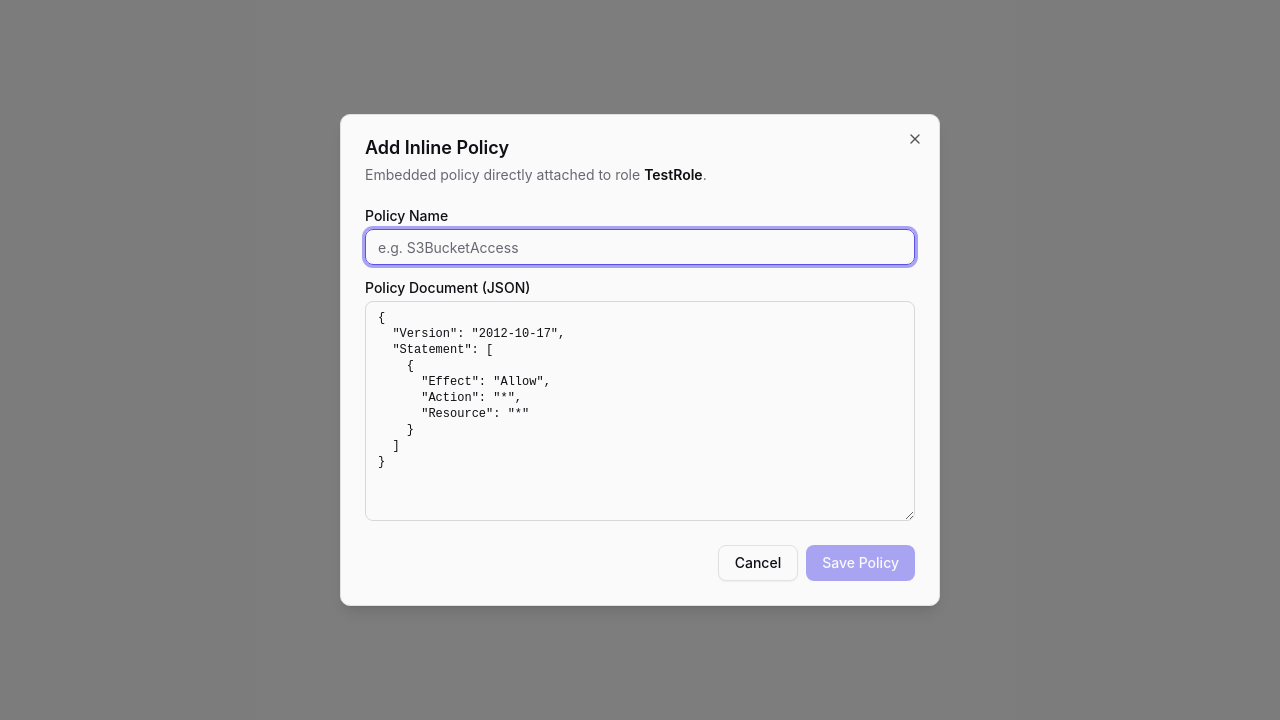
InlinePolicyDialog › renders dialog inputs and disables save on invalid policy
The image size is (1280, 720).
Expected: the heading "Add Inline Policy" is shown, [365,137,509,158]
Type "ValidName" into the field labelled "Policy Name". click: (640, 247)
box: [365,229,915,265]
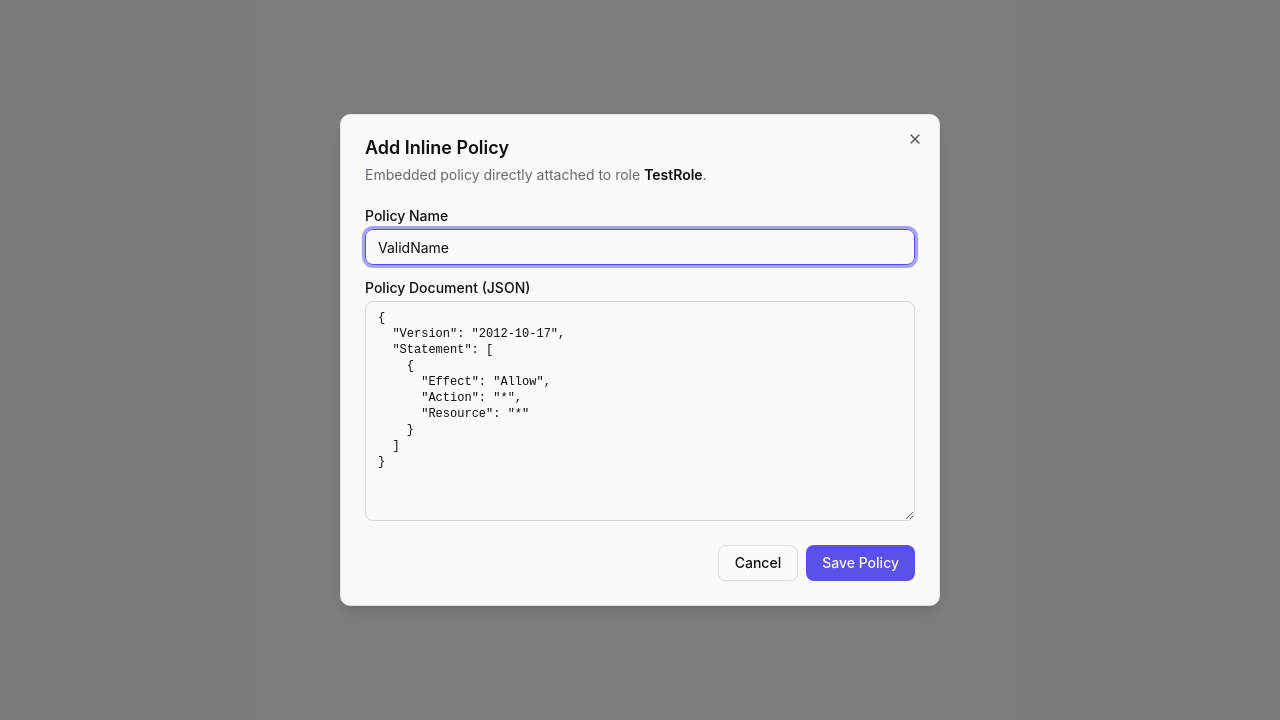
Result: the button "Save Policy" is enabled at [806,545,915,581]
# Corrupt the json in textarea
Clear the text box labelled "Policy Document (JSON)". click: (640, 411)
box: [365,301,915,521]
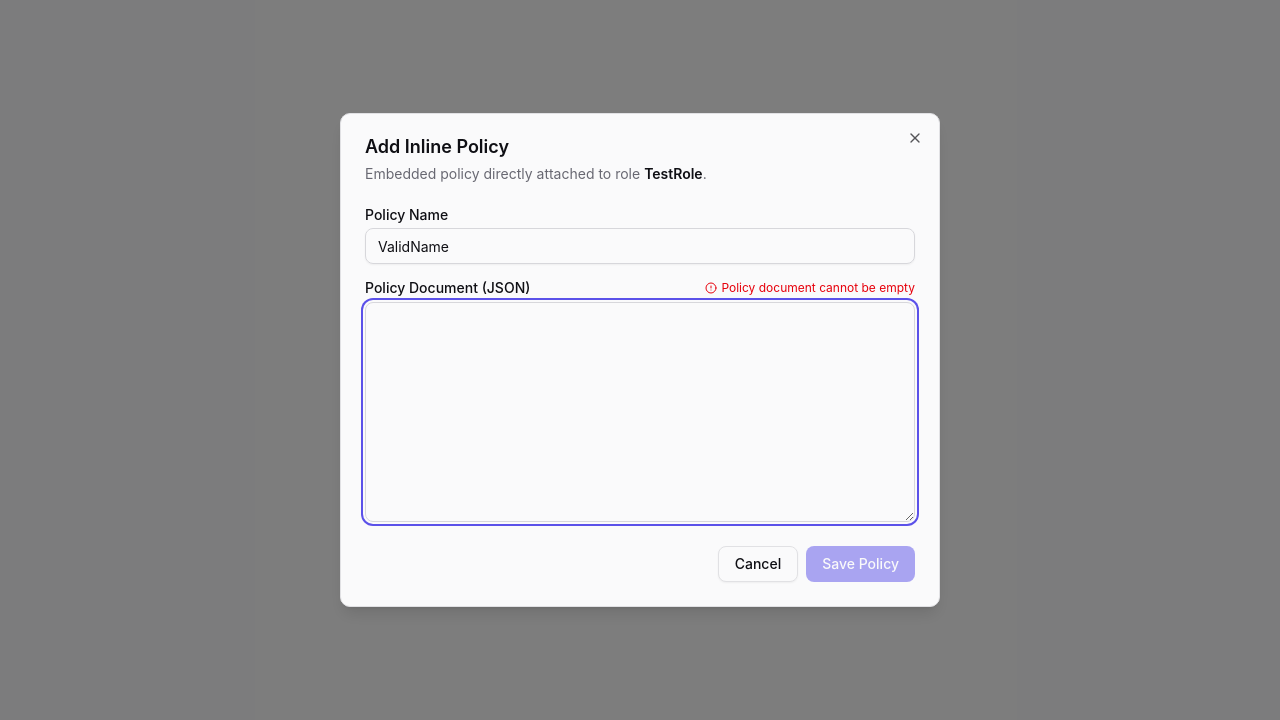
Type "invalid" into the text box labelled "Policy Document (JSON)". click: (640, 412)
box: [365,302,915,522]
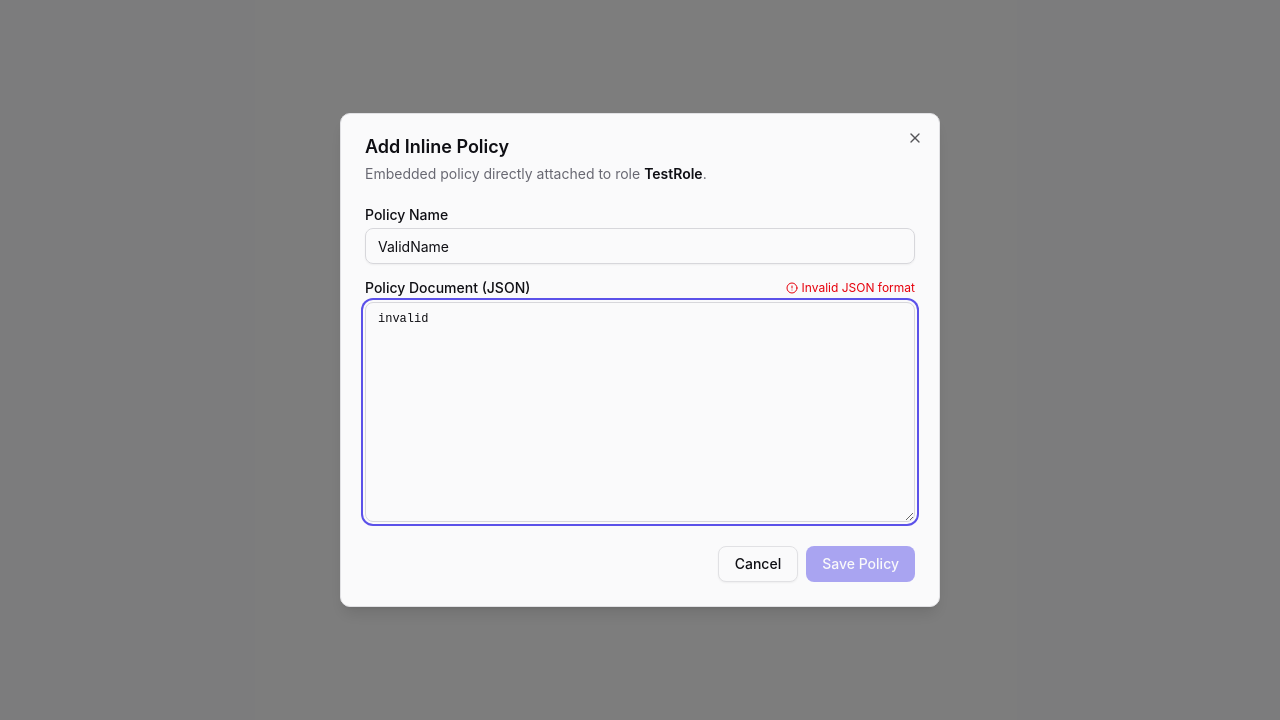
Result: the button "Save Policy" is disabled at [806,546,915,582]
Result: the text "Invalid JSON format" is shown at [786,280,915,296]
